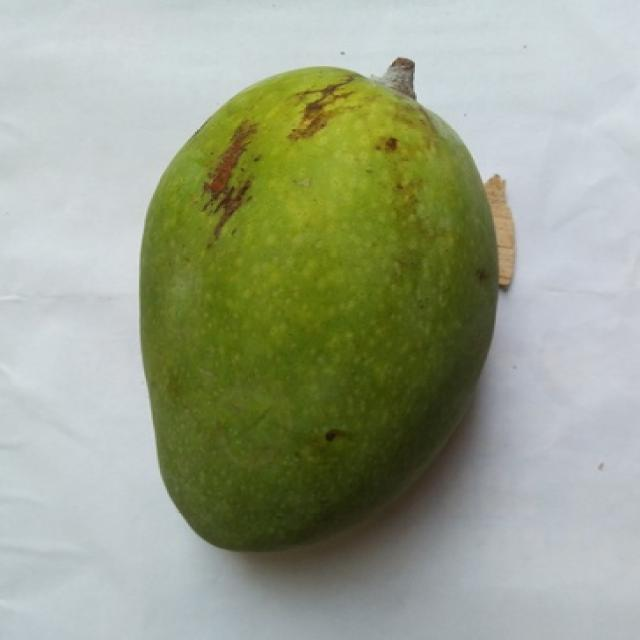Mango: (141, 69, 498, 551)
